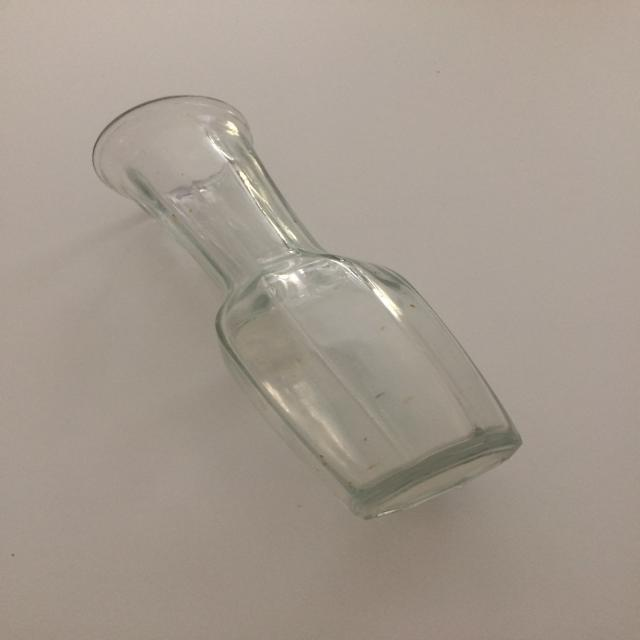glass: (89, 94, 525, 522)
